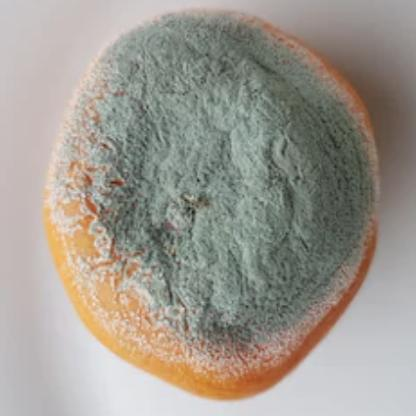rotten: (46, 8, 380, 402)
